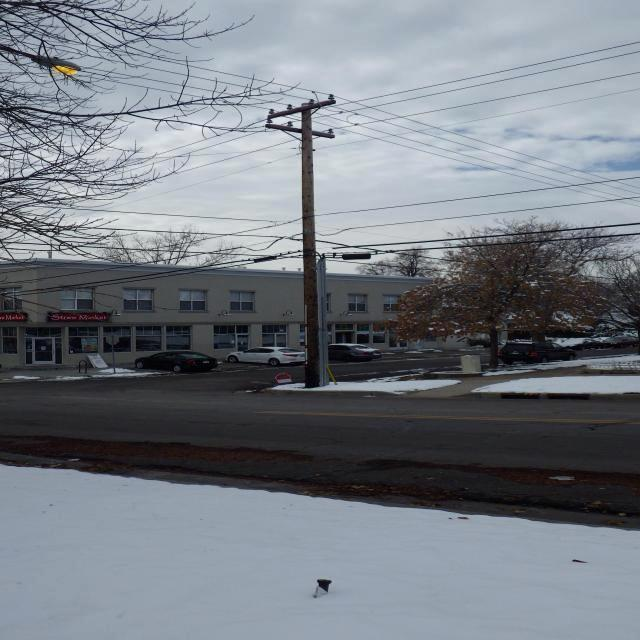crossarm: (268, 94, 337, 119), (266, 118, 335, 138)
pole: (297, 102, 325, 388)
wire: (0, 36, 640, 197), (24, 31, 640, 190), (0, 60, 640, 207), (48, 39, 640, 188), (52, 49, 640, 194), (124, 85, 640, 207), (131, 71, 640, 187), (107, 176, 640, 259), (53, 195, 640, 240), (0, 240, 477, 275), (0, 235, 287, 286), (0, 261, 255, 298), (1, 259, 254, 296), (331, 221, 640, 249), (328, 233, 640, 260), (28, 205, 287, 224)
